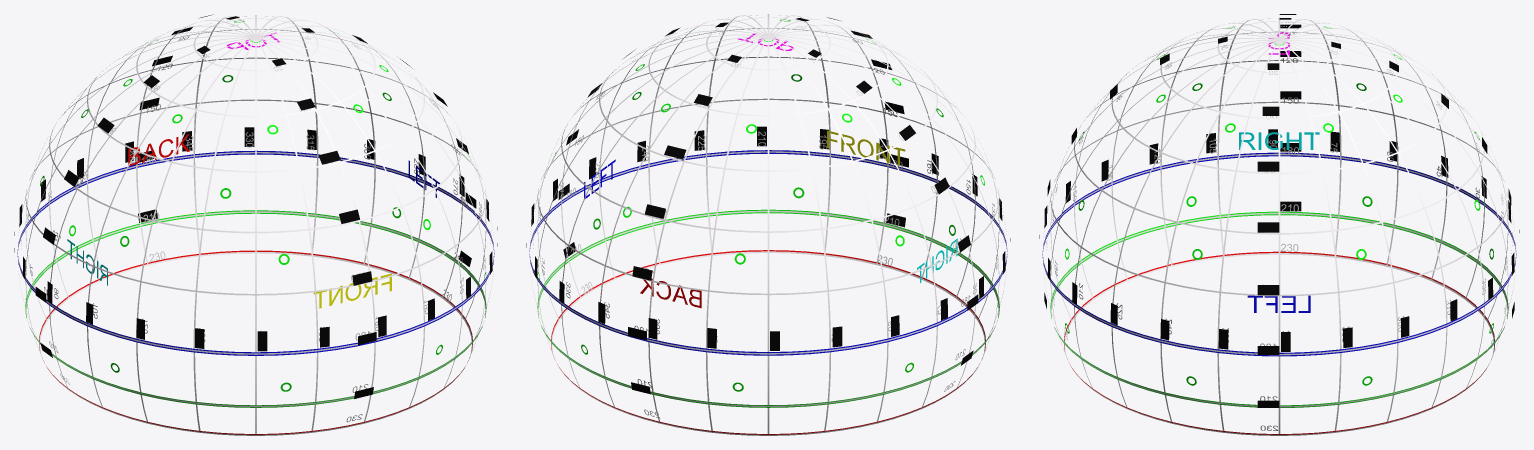
Rendered from domeGrid.obj.
3 renders of one model, left to right at view 1: azimuth 30°, elevation 25°; view 2: azimuth 150°, elevation 25°; view 3: azimuth 270°, elevation 25°, orthographic.
Visible parts, largest first — view 1: wire, TextBacking, 180degres, 210degres, text, 230degres, bus, Front; view 2: wire, TextBacking, 180degres, 210degres, text, 230degres, bus, Front; view 3: wire, TextBacking, 180degres, 210degres, text, 230degres, bus, Right.
Boxes of the visible parts, x1,y1,x2,y2 form: wire: [17, 15, 494, 435]; TextBacking: [14, 14, 497, 398]; 180degres: [17, 150, 494, 355]; 210degres: [25, 210, 486, 407]; text: [21, 23, 490, 422]; 230degres: [39, 250, 472, 434]; bus: [25, 20, 486, 391]; Front: [313, 273, 391, 308]; wire: [529, 14, 1007, 435]; TextBacking: [526, 17, 1010, 394]; 180degres: [529, 150, 1007, 355]; 210degres: [537, 209, 999, 407]; text: [533, 26, 1003, 418]; 230degres: [551, 250, 985, 434]; bus: [537, 19, 999, 391]; Front: [827, 130, 905, 165]; wire: [1042, 17, 1516, 435]; TextBacking: [1039, 14, 1519, 407]; 180degres: [1042, 152, 1516, 356]; 210degres: [1050, 211, 1508, 407]; text: [1046, 22, 1512, 430]; 230degres: [1064, 251, 1494, 434]; bus: [1065, 26, 1493, 385]; Right: [1239, 132, 1319, 149].
Bounding box in the file's own units: 8.12 × 5.69 × 8.12.
